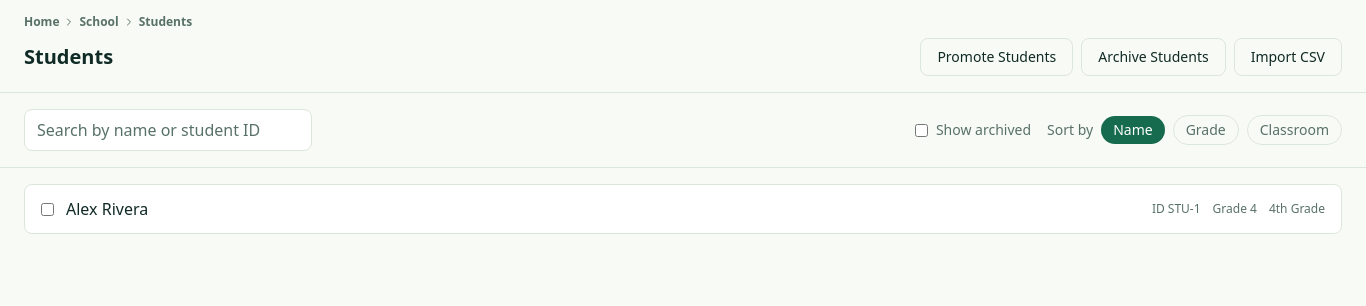
Test case: StudentsPage › disables Restore… with nothing selected
Click the checkbox named "Select Alex Rivera" at (48, 209), box [41,202,54,216]
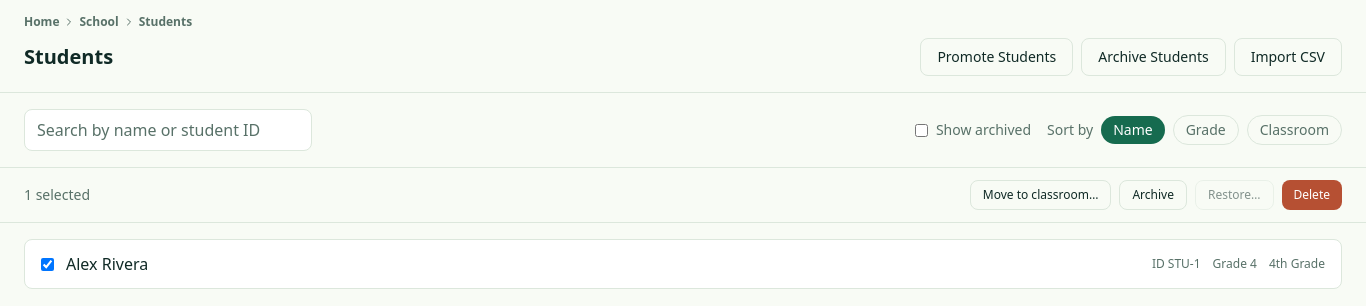
Expected: the button "Restore…" is disabled, [1195,180,1274,210]
